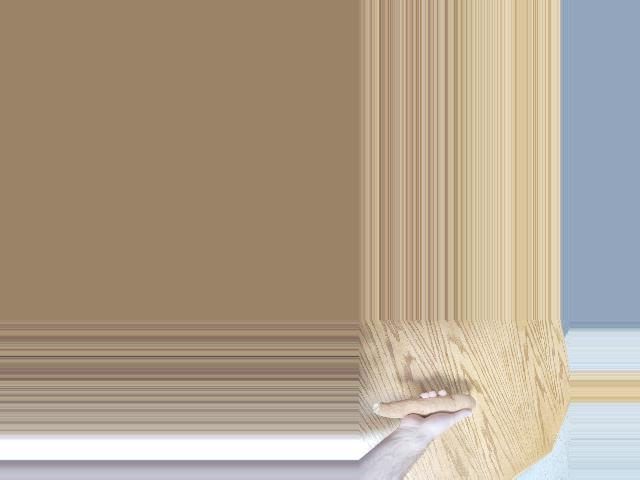sweet_potato: (369, 392, 476, 426)
